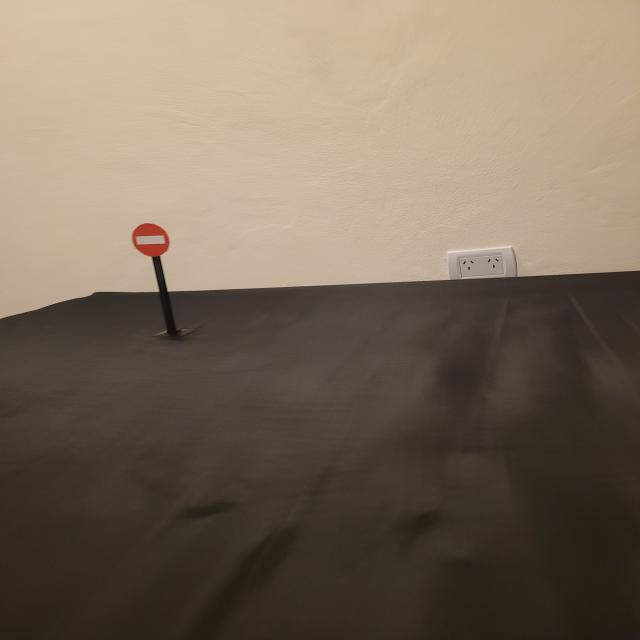no_entry: (130, 222, 171, 256)
